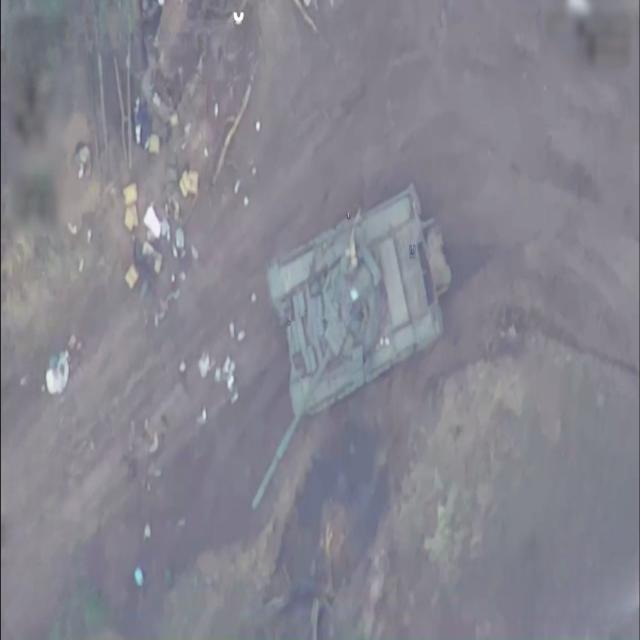MBT: (250, 183, 450, 515)
